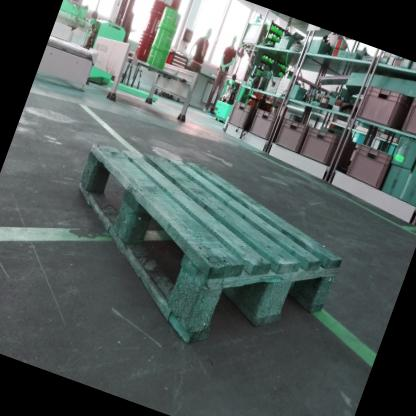BoxFace: (72, 142, 346, 349)
